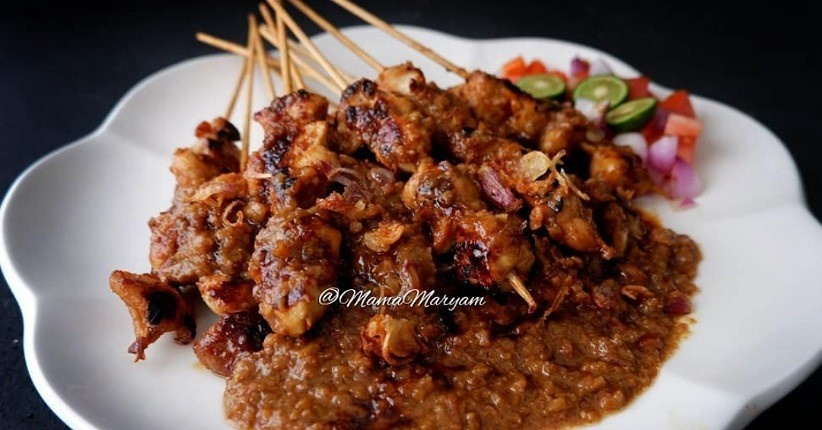sate_madura: (147, 39, 656, 386)
